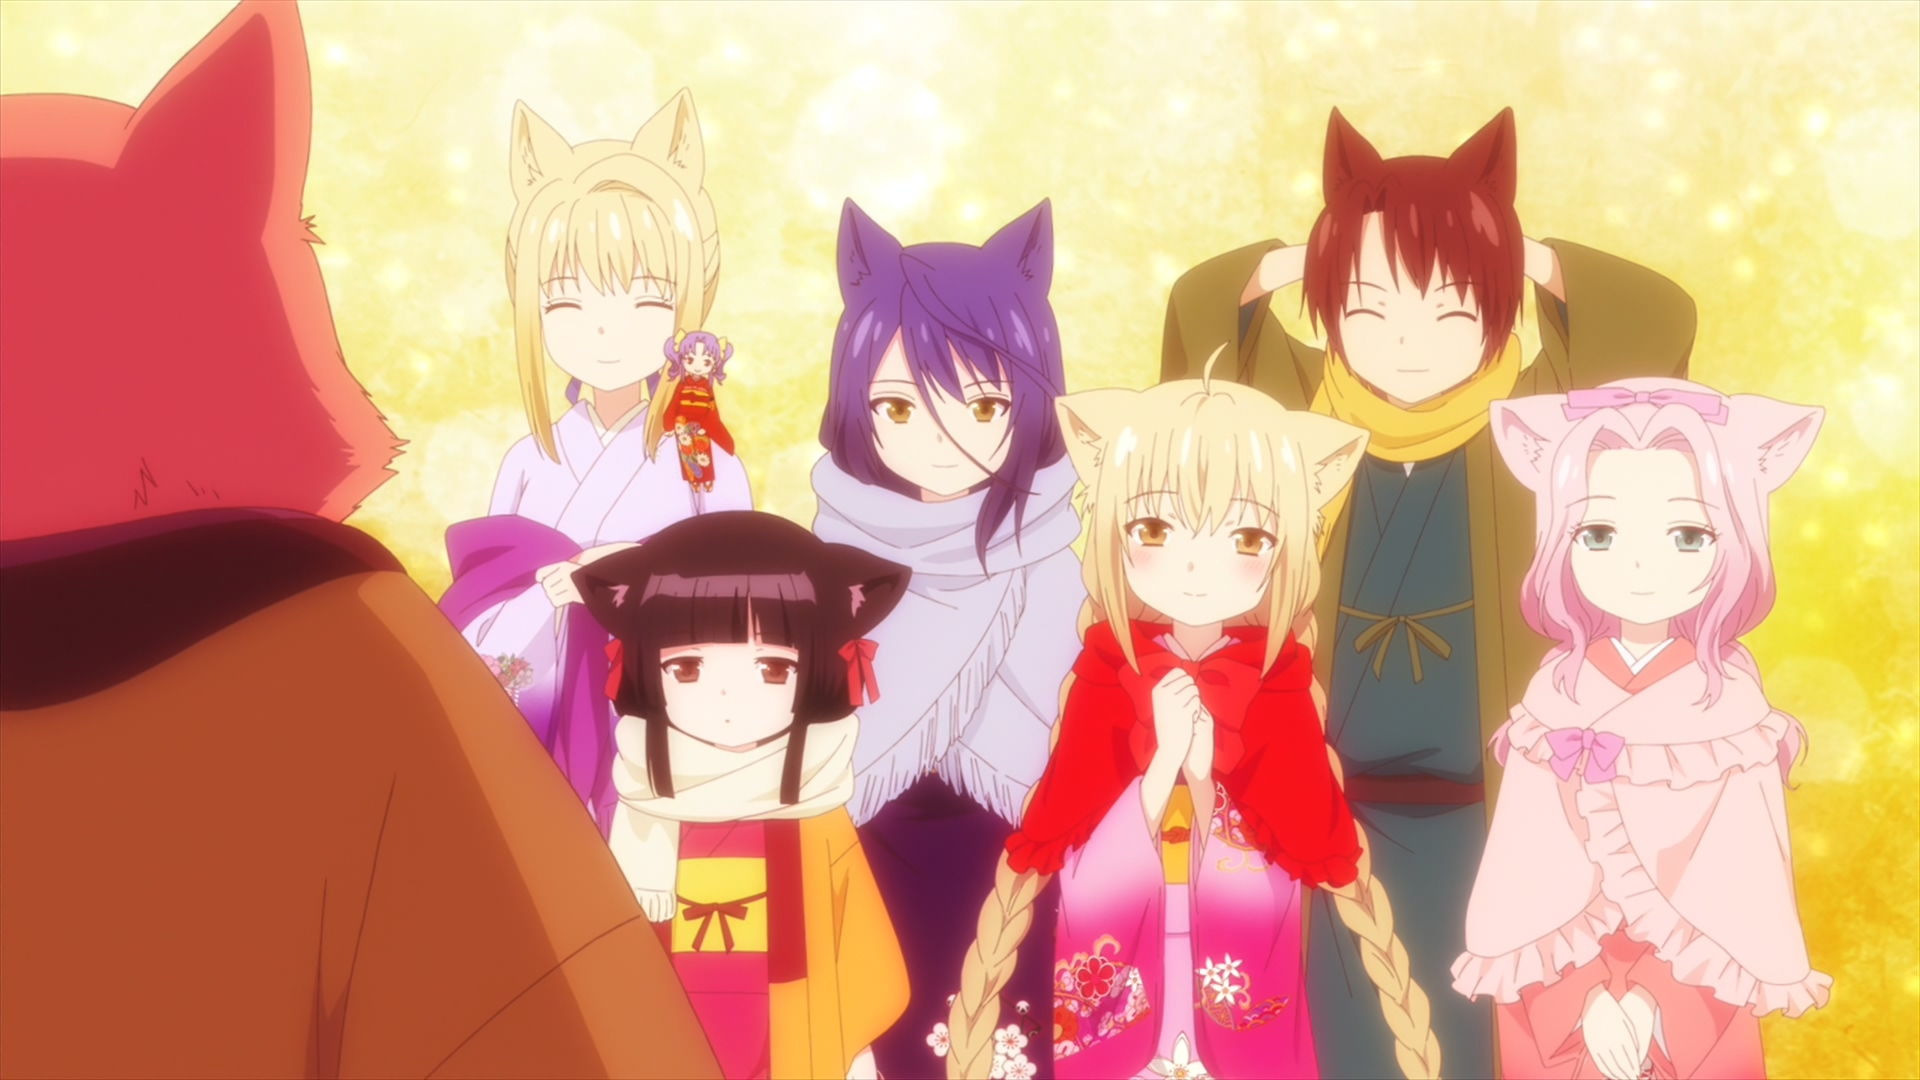枣: (1163, 108, 1700, 1080)
柚: (944, 342, 1439, 1080)
桐: (435, 86, 752, 841)
椿: (1, 1, 727, 1080)
樱: (571, 512, 910, 1080)
皋: (811, 196, 1087, 1080)
莲: (1452, 375, 1832, 1080)
阿菊: (657, 330, 738, 495)
